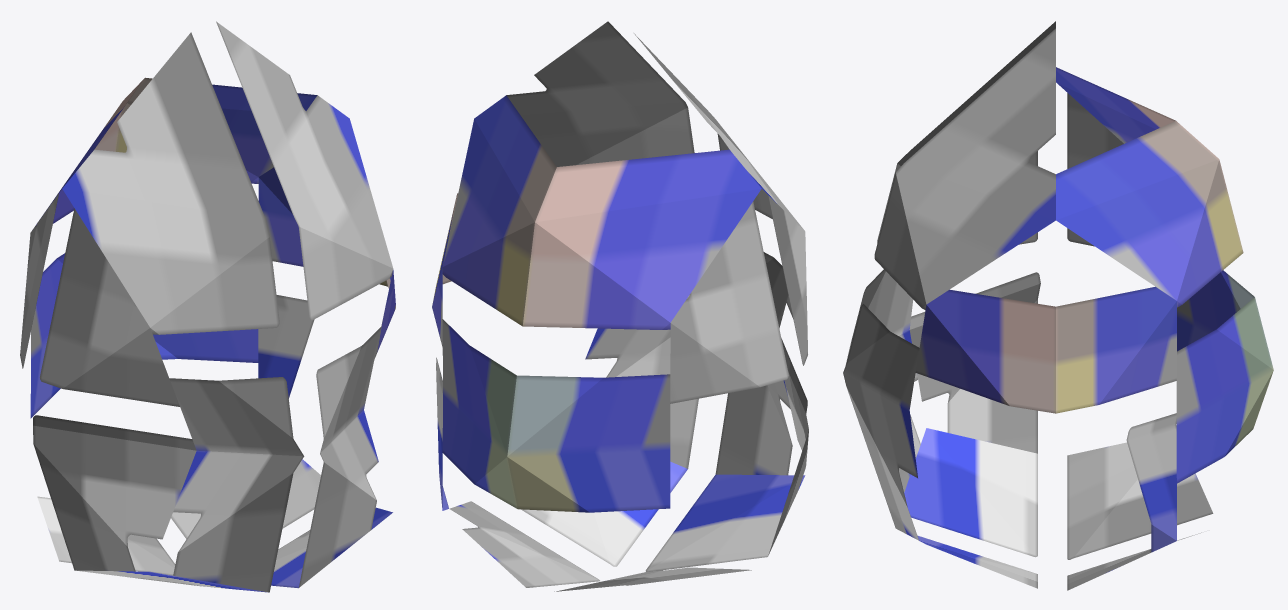
File: flicker_habitat_crystal.obj
3 views of the same model, side by side, from view 1: azimuth 30°, elevation 25°; view 2: azimuth 150°, elevation 25°; view 3: azimuth 270°, elevation 25° (orthographic).
Visible parts, largest first — view 1: crystal; view 2: crystal; view 3: crystal.
Part boxes in pixels (bbox=[...]): crystal: bbox=[20, 21, 395, 592]; crystal: bbox=[432, 21, 808, 591]; crystal: bbox=[843, 21, 1273, 590].
Size of the model in its own units: 0.51 by 0.73 by 0.51.
